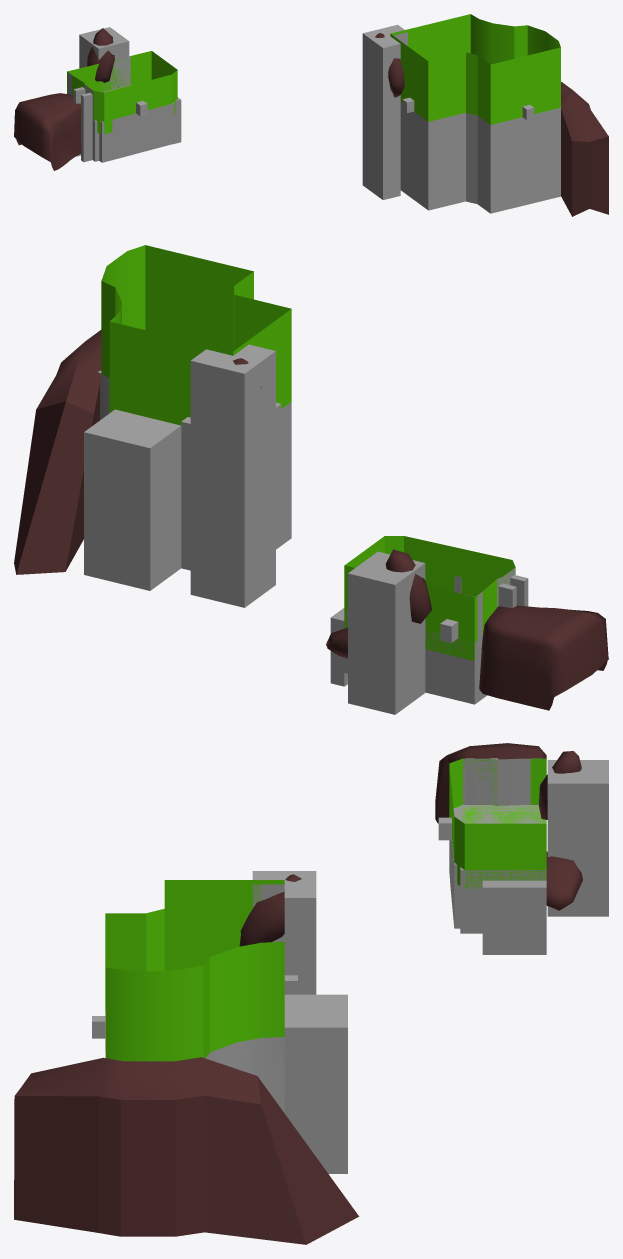
File: Nivel1_DressingNew1.fbx
3 views of the same model, one above another, from view 1: azimuth 30°, elevation 25°; view 2: azimuth 150°, elevation 25°; view 3: azimuth 270°, elevation 25° (orthographic). The views are drawn at different scales.
Parts seen in each view (by area): view 1: Escenario (×2), Walls (×2), Carne2 (×2), Concret2, PlayerNoFall, Pared4, Carne3, Pared2, Carne1; view 2: Carne2 (×2), Walls, Concret2, Concret1, Pared4, PlayerNoFall, Escenario (×2), Carne3, Pared1; view 3: Carne2 (×2), Walls (×2), Concret1, Pared4, Escenario (×2), PlayerNoFall, Pared1, Concret2, Carne1 (×2), Ground, Carne3.
Part boxes in pixels (bbox=[...]): Escenario (×2): bbox=[92, 85, 561, 213]; Walls (×2): bbox=[68, 14, 560, 124]; Carne2 (×2): bbox=[14, 81, 608, 216]; Concret2: bbox=[362, 24, 407, 199]; PlayerNoFall: bbox=[67, 51, 177, 133]; Pared4: bbox=[79, 27, 129, 68]; Carne3: bbox=[87, 28, 114, 82]; Pared2: bbox=[81, 92, 92, 162]; Carne1: bbox=[373, 33, 404, 97]; Carne2 (×2): bbox=[14, 330, 608, 710]; Walls: bbox=[101, 245, 291, 425]; Concret2: bbox=[190, 344, 275, 607]; Concret1: bbox=[84, 409, 181, 590]; Pared4: bbox=[348, 551, 425, 714]; PlayerNoFall: bbox=[344, 536, 515, 660]; Escenario (×2): bbox=[98, 370, 486, 704]; Carne3: bbox=[385, 549, 431, 623]; Pared1: bbox=[330, 608, 347, 686]; Carne2 (×2): bbox=[14, 743, 546, 1244]; Walls (×2): bbox=[105, 758, 541, 1061]; Concret1: bbox=[284, 994, 347, 1173]; Pared4: bbox=[547, 760, 608, 916]; Escenario (×2): bbox=[105, 805, 546, 1112]; PlayerNoFall: bbox=[449, 758, 546, 889]; Pared1: bbox=[482, 880, 546, 954]; Concret2: bbox=[252, 871, 316, 994]; Carne1 (×2): bbox=[239, 851, 582, 946]; Ground: bbox=[455, 805, 546, 823]; Carne3: bbox=[538, 751, 581, 819].
Size of the model in its own units: 219 by 74.97 by 155.
